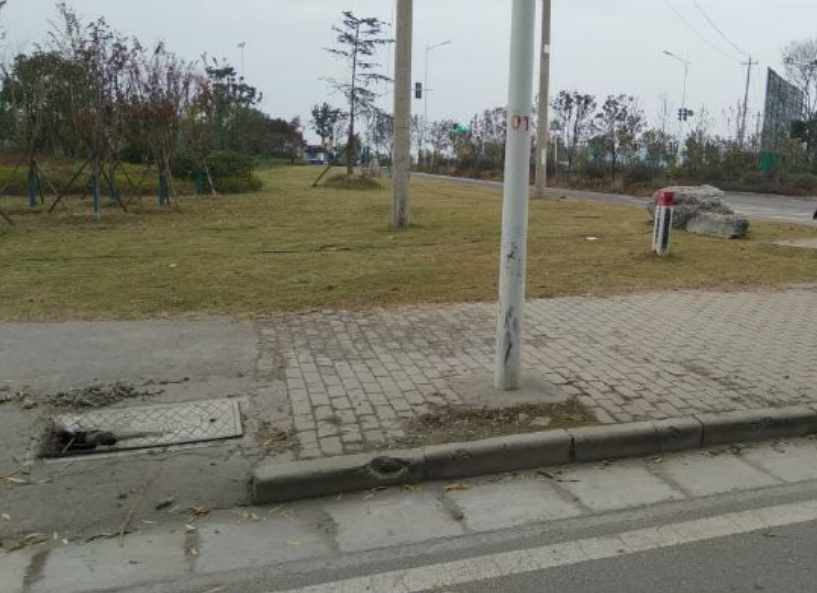well: (53, 398, 254, 463)
